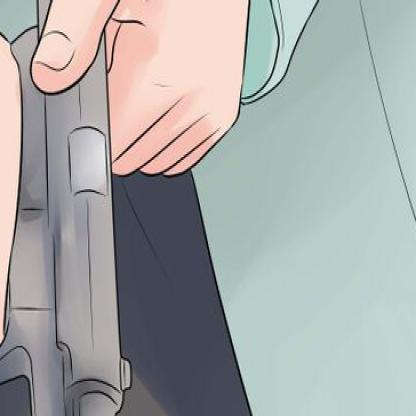gun: (0, 0, 170, 415)
